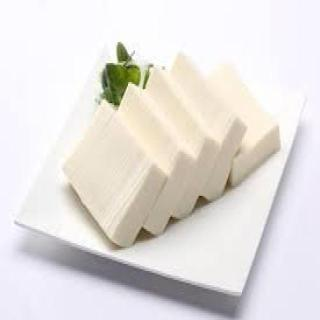Tahu: (46, 42, 290, 244)
